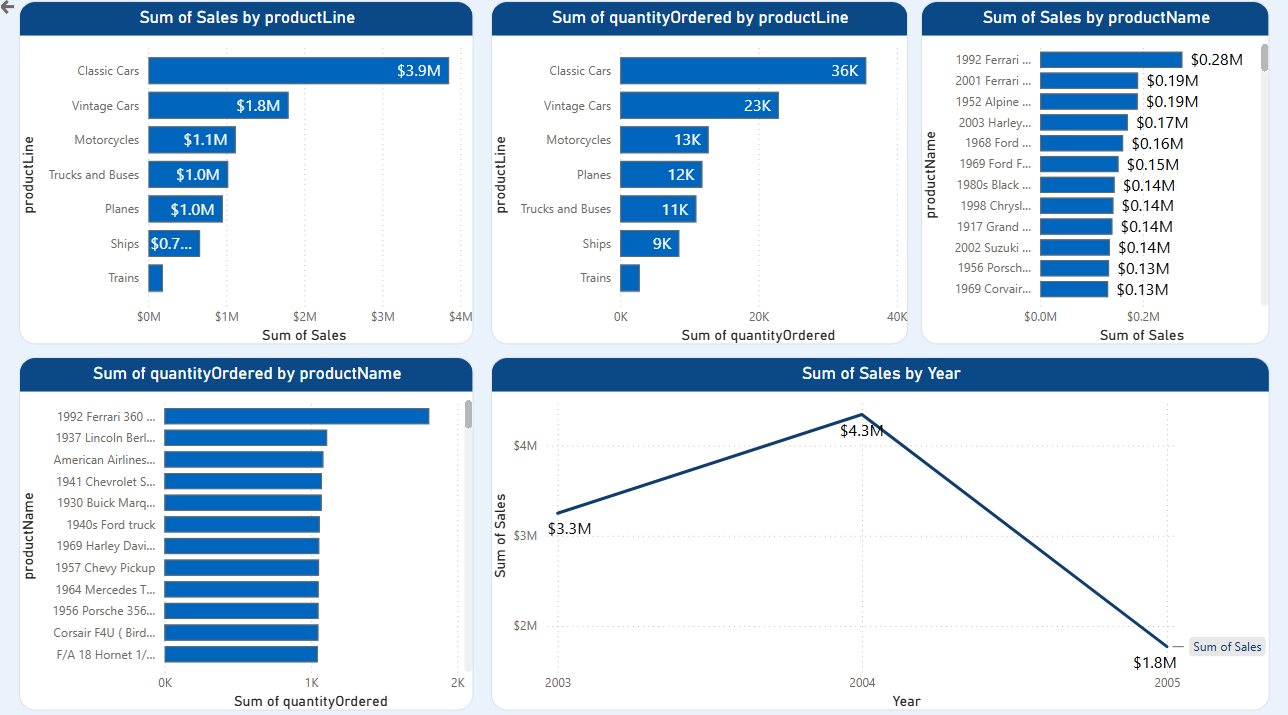

This screenshot's page, from the dashboard's own definition file:
{"tool":"powerbi","page":{"name":"DETAILED VIEW","canvas":[1280,720],"ordinal":1},"visuals":[{"type":"barChart","fields":{"Category":["Products.productLine"],"Y":["Sum(order details.Sales)"]},"box":[21.8,8.2,450,340],"z":0},{"type":"barChart","fields":{"Category":["Products.productLine"],"Y":["Sum(order details.quantityOrdered)"]},"box":[489.1,8.2,412.7,340],"z":1000},{"type":"barChart","fields":{"Category":["Products.productName"],"Y":["Sum(order details.Sales)"]},"box":[914.5,8.2,345.5,340],"z":2000},{"type":"barChart","fields":{"Category":["Products.productName"],"Y":["Sum(order details.quantityOrdered)"]},"box":[21.8,360,450,350],"z":3000},{"type":"lineChart","fields":{"Y":["Sum(order details.Sales)"],"Category":["Orders.orderDate.Variation.Date Hierarchy.Year","Orders.orderDate.Variation.Date Hierarchy.Quarter","Orders.orderDate.Variation.Date Hierarchy.Month","Orders.orderDate.Variation.Date Hierarchy.Day"]},"box":[489.1,360,770.9,350],"z":4000},{"type":"actionButton","box":[0,0,21.8,27.3],"z":5000}]}

Visuals, with their boxes in screenshot pixels (x1, y1, x2, y2), scaled from the page's 1280x720 canvas onto the 1288x715 screenshot:
barChart - Products.productLine x Sum(order details.Sales): detection(22, 8, 475, 346)
barChart - Products.productLine x Sum(order details.quantityOrdered): detection(492, 8, 907, 346)
barChart - Products.productName x Sum(order details.Sales): detection(920, 8, 1268, 346)
barChart - Products.productName x Sum(order details.quantityOrdered): detection(22, 358, 475, 705)
lineChart - Sum(order details.Sales) x Orders.orderDate.Variation.Date Hierarchy.Year: detection(492, 358, 1268, 705)
actionButton: detection(0, 0, 22, 27)
